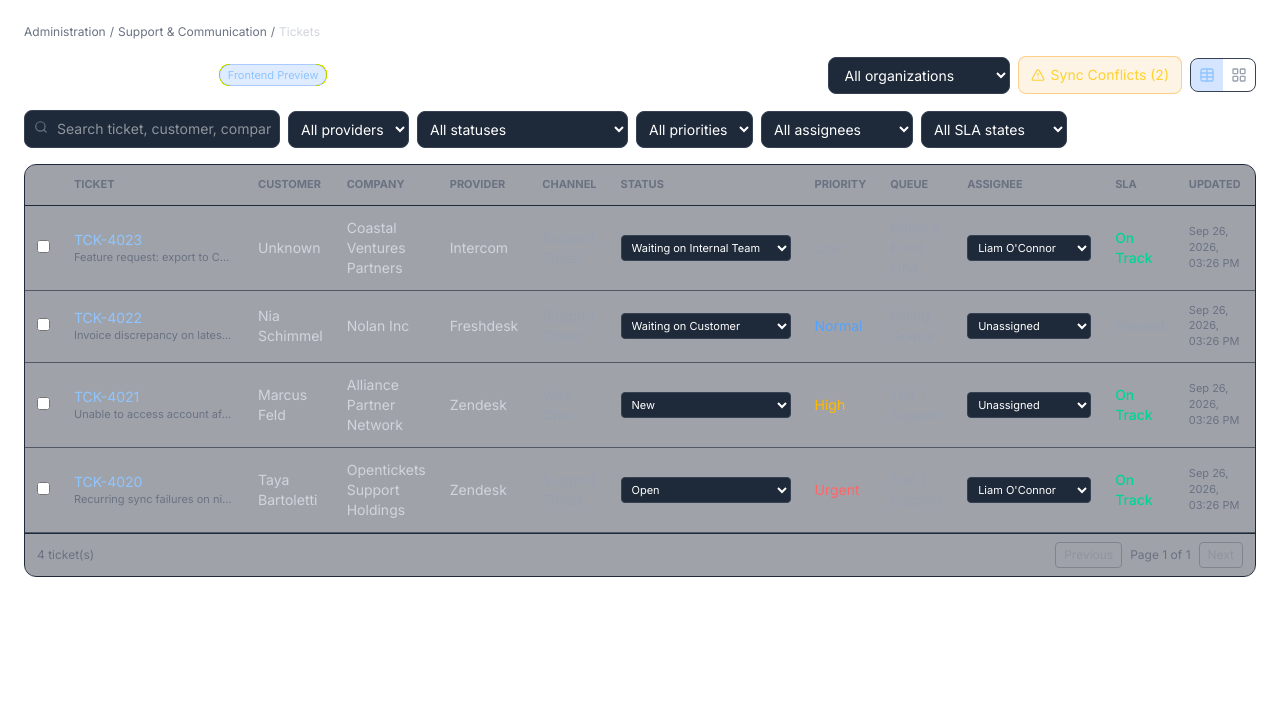
it: SupportTicketsIntegration › selecting tickets reveals a Bulk Close action that requires a written reason
Click the checkbox named "Select TCK-4023".
click(44, 246)  # box [37, 240, 50, 253]
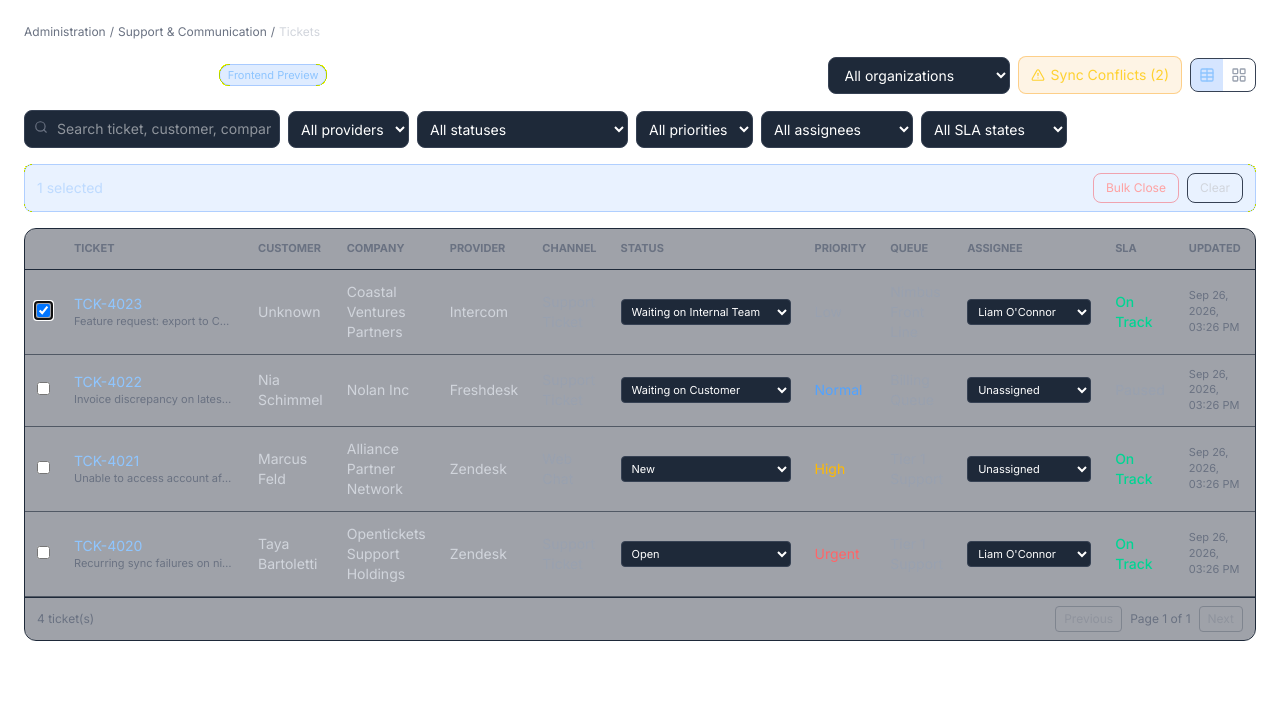
Click the button "Bulk Close".
click(1136, 188)  # box [1093, 173, 1179, 203]
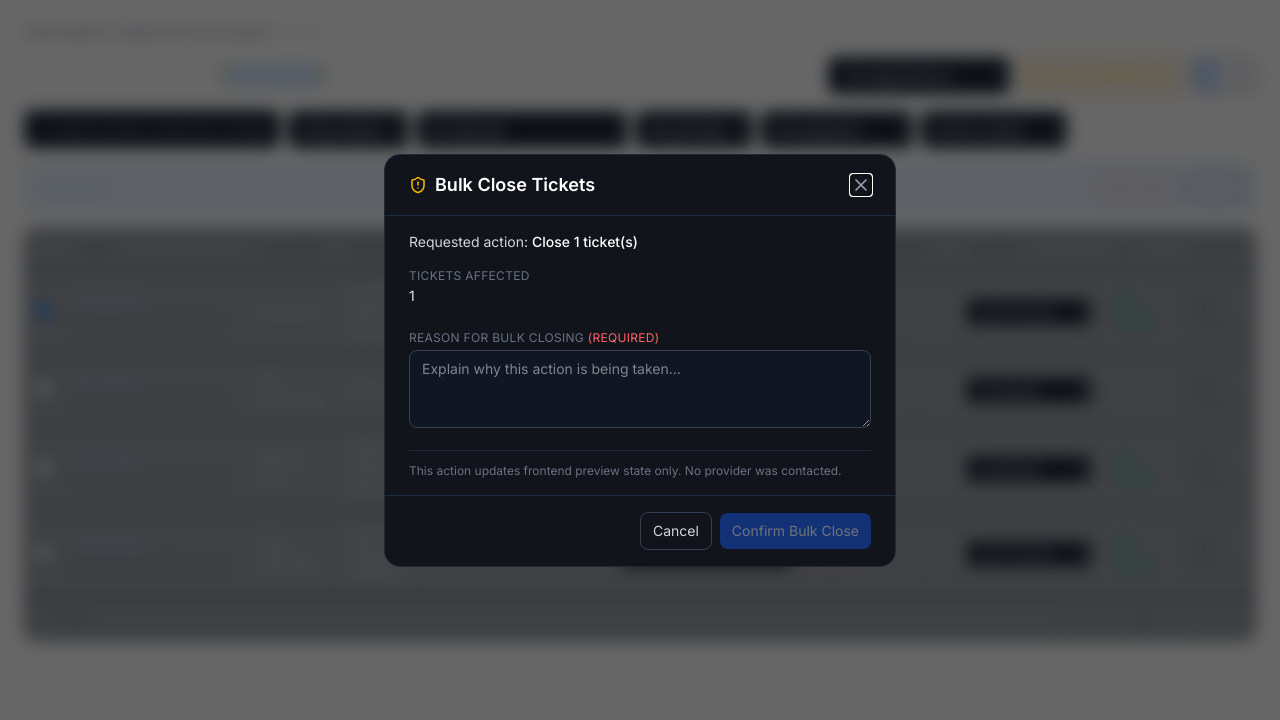
Expected: the button "Confirm Bulk Close" is disabled, [720, 512, 871, 548]
